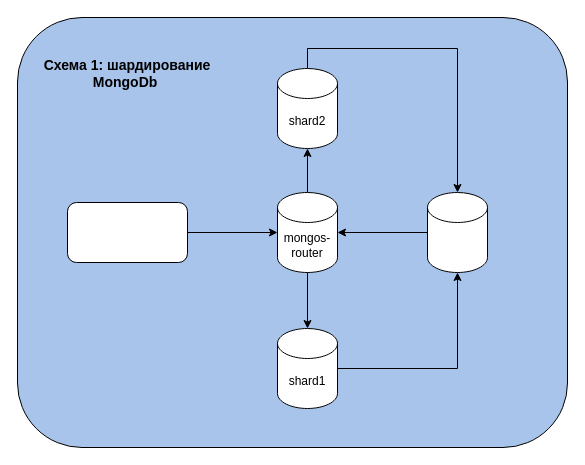
The diagram is 585 pixels wide and 465 high, and some of its shapes have lost their labels. Each missing label, with the centre of its shape:
"configSrv" belongs at [457,232].
"pymongo-api" belongs at [127,232].
